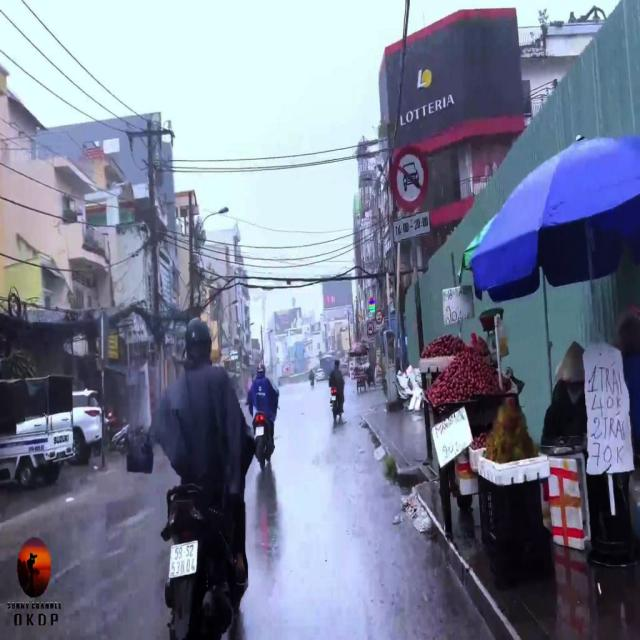cam_o_to: (391, 147, 428, 211), (368, 322, 376, 336)
cam_o_to_tai_va_xe_khach: (375, 310, 383, 324)
khac: (394, 212, 432, 243)
